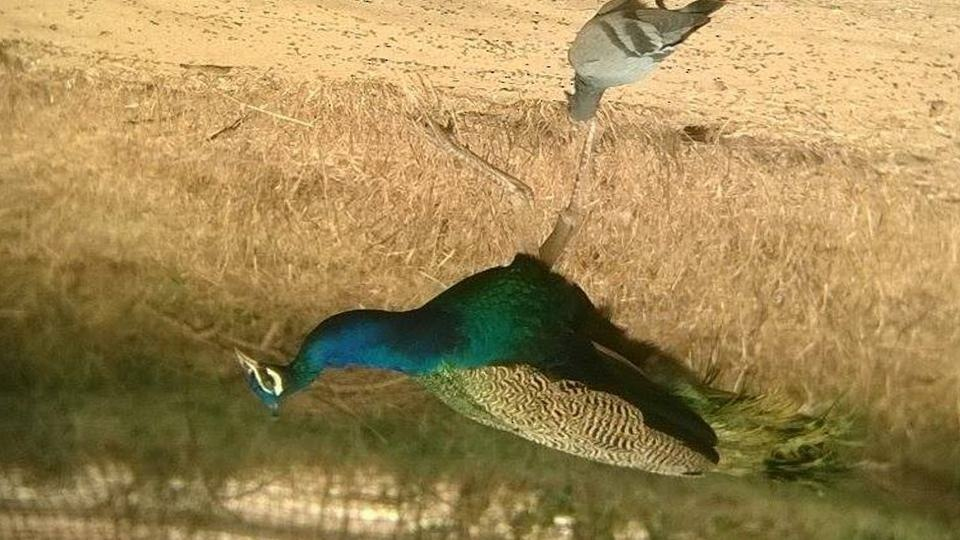peacock: (226, 240, 799, 447)
